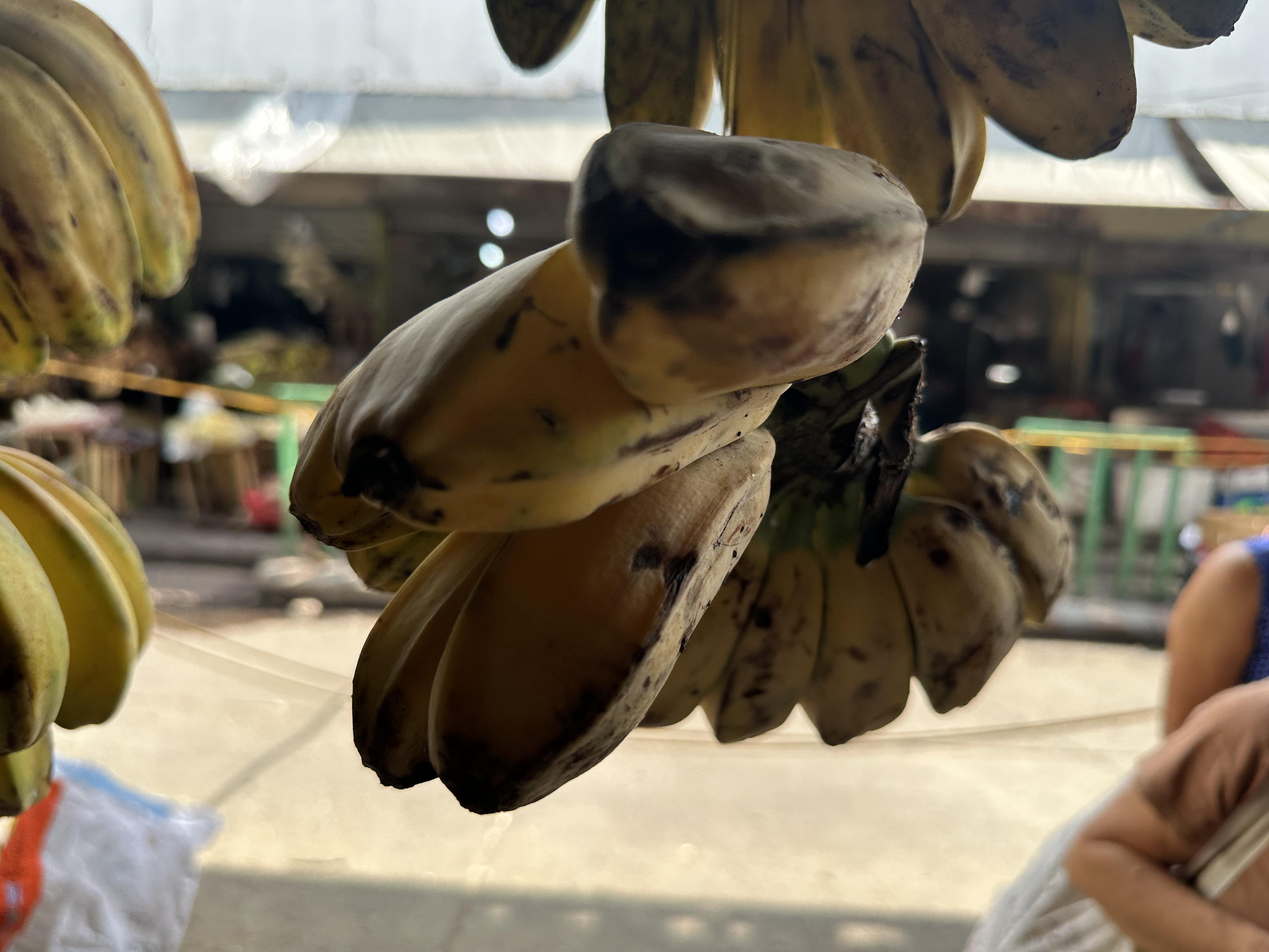ripe: (286, 123, 1076, 817), (603, 0, 1249, 224)
underripe: (0, 0, 201, 381), (0, 447, 154, 819)
